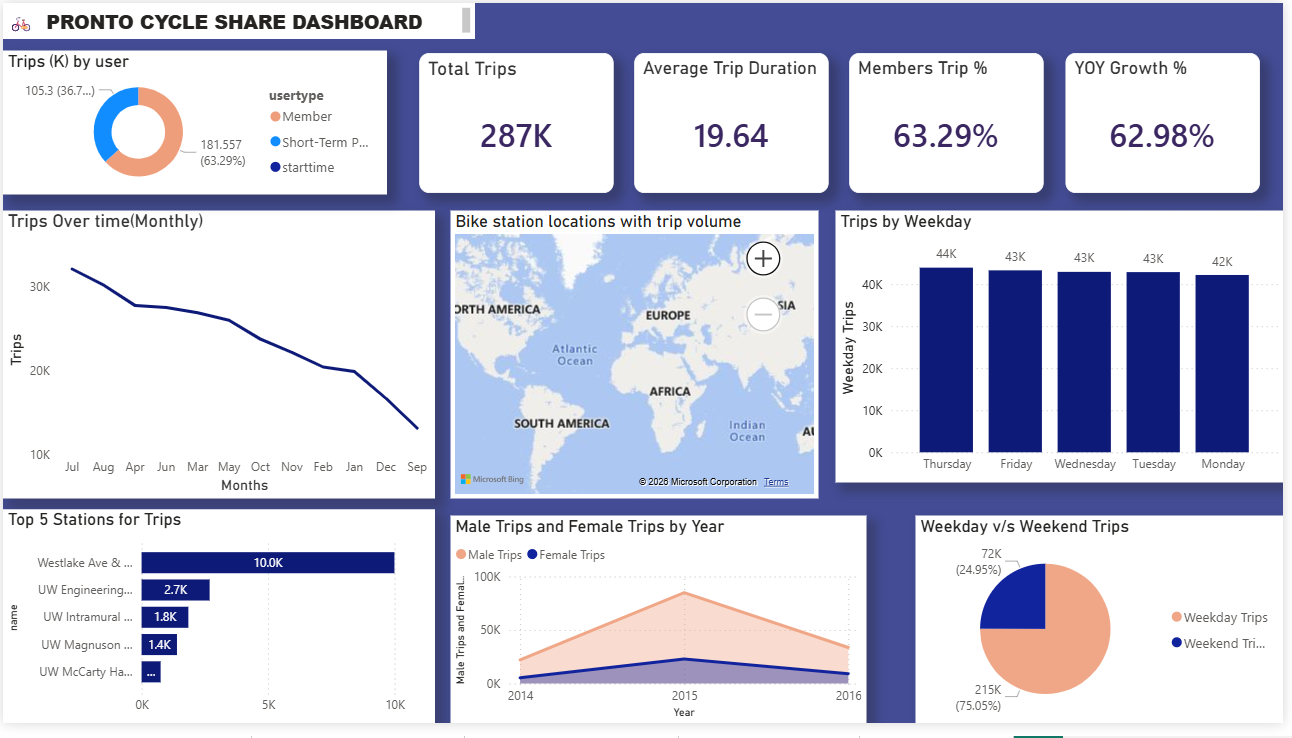

Layout of this report page (visuals, bound fields, positions):
{"tool":"powerbi","page":{"name":" Executive Summary (KPI Dashboard)","canvas":[1280,720],"ordinal":0},"visuals":[{"type":"textbox","box":[0,0,472,35.7],"z":0},{"type":"cardVisual","title":"Total Trips","fields":{"Data":["Meas.Total Trips"]},"box":[415.8,49.4,194,140],"z":1000},{"type":"cardVisual","title":"Average Trip Duration","fields":{"Data":["Meas.Avg Trip Duration (Minutes)"]},"box":[631.2,49.4,194,140],"z":2000},{"type":"cardVisual","title":"Members Trip %","fields":{"Data":["Meas.% Member Trips"]},"box":[846.7,49.4,194,140],"z":3000},{"type":"cardVisual","title":"YOY Growth %","fields":{"Data":["Time Measures.YoY Trip Growth %"]},"box":[1062.1,49.4,194,140],"z":4000},{"type":"lineChart","title":"Trips Over time(Monthly)","fields":{"Y":["DateTable.trips by month"],"Category":["DateTable.Month"]},"box":[0,208,432,288],"z":5000},{"type":"clusteredColumnChart","title":"Trips by Weekday","fields":{"Y":["weatherTable.Weekday Trips"],"Category":["trip.Weekday Name"]},"box":[832,208,448,272],"z":6000},{"type":"donutChart","title":" Trips (K) by user","fields":{"Category":["trip.usertype"],"Y":["Meas.Total Trips (K)"]},"box":[0,48,384,144],"z":7000},{"type":"clusteredBarChart","title":"Top 5 Stations for Trips","fields":{"Category":["station (2).name"],"Y":["Time Measures.Trips Started at Station"]},"box":[0,506,432,214],"z":8000},{"type":"pieChart","title":"Weekday v/s Weekend Trips","fields":{"Y":["weatherTable.Weekday Trips","weatherTable.Weekend Trips"]},"box":[912,512,368,208],"z":9000},{"type":"areaChart","fields":{"Category":["DateTable.Year"],"Y":["Meas.Male Trips","Meas.Female Trips"]},"box":[448,512,416,208],"z":10000},{"type":"filledMap","title":" Bike station locations with trip volume","fields":{"Y":["Avg(station (2).lat)"],"X":["Avg(station (2).long)"]},"box":[448,208,368,288],"z":11000}]}

Visuals, with their boxes in screenshot pixels (x1, y1, x2, y2), scaled from the page's 1280x720 canvas onto the 1292x738 screenshot:
textbox: bbox=(0, 0, 476, 37)
"Total Trips" cardVisual: bbox=(420, 51, 616, 194)
"Average Trip Duration" cardVisual: bbox=(637, 51, 833, 194)
"Members Trip %" cardVisual: bbox=(855, 51, 1050, 194)
"YOY Growth %" cardVisual: bbox=(1072, 51, 1268, 194)
"Trips Over time(Monthly)" lineChart: bbox=(0, 213, 436, 508)
"Trips by Weekday" clusteredColumnChart: bbox=(840, 213, 1291, 492)
" Trips (K) by user" donutChart: bbox=(0, 49, 388, 197)
"Top 5 Stations for Trips" clusteredBarChart: bbox=(0, 519, 436, 737)
"Weekday v/s Weekend Trips" pieChart: bbox=(921, 525, 1291, 737)
areaChart - DateTable.Year x Meas.Male Trips: bbox=(452, 525, 872, 737)
" Bike station locations with trip volume" filledMap: bbox=(452, 213, 824, 508)
